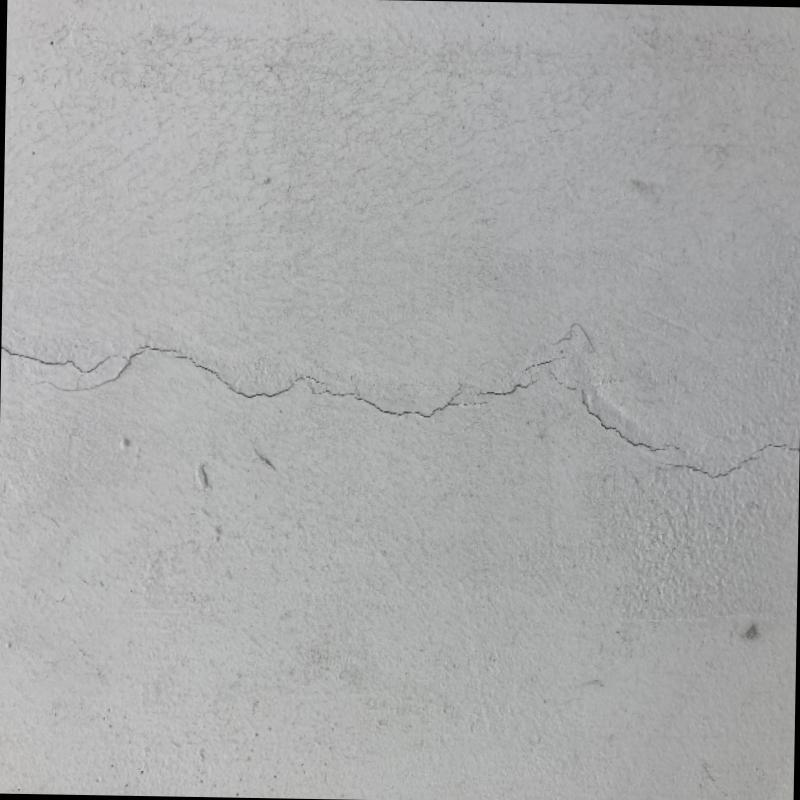pothole: (11, 329, 796, 491)
